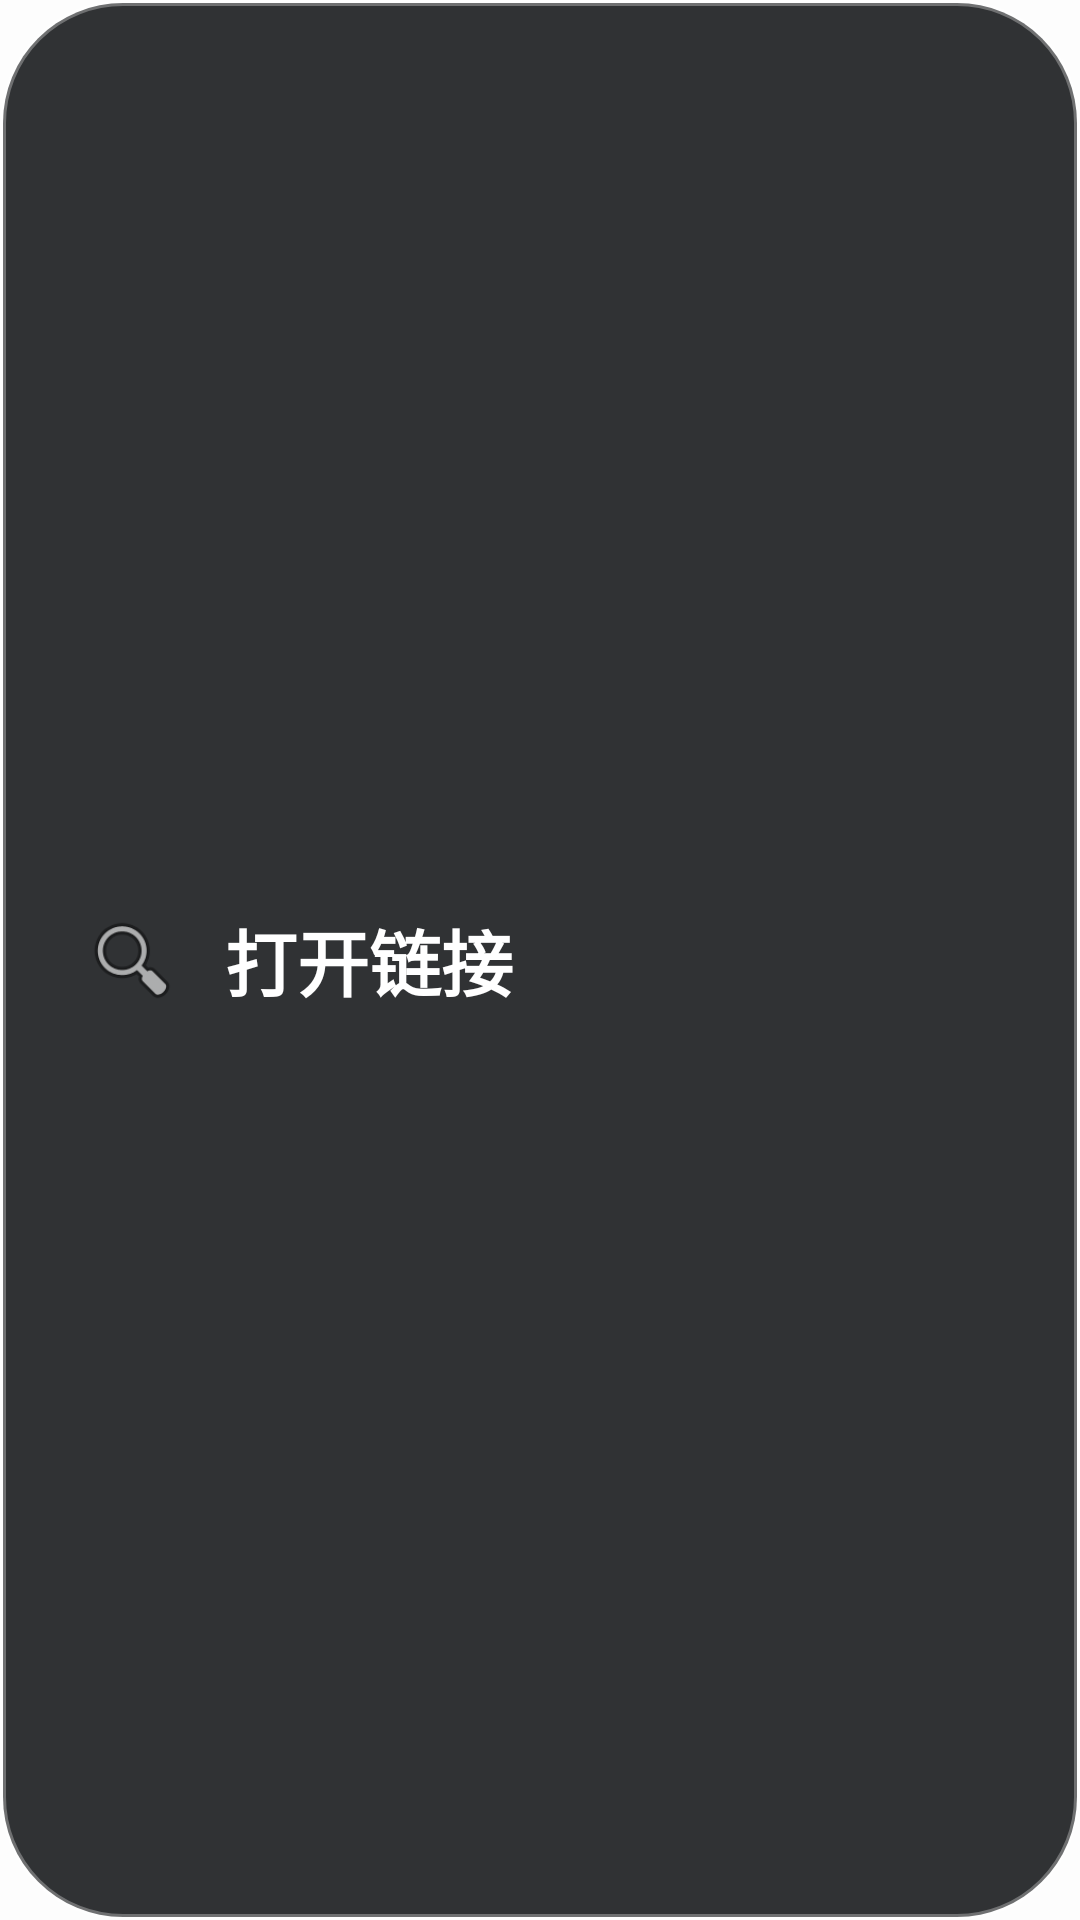

Icon bounding boxes for this 1080px x 1920px phone screenshot, format (x1, y1, x2, y2):
search: (97, 925, 167, 995)
